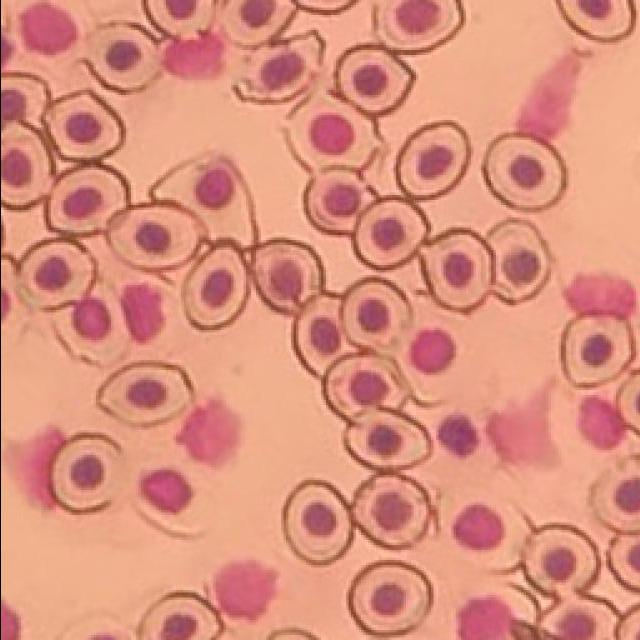RBC: (149, 155, 255, 248), (394, 296, 464, 405), (285, 91, 380, 171), (231, 32, 321, 104), (106, 204, 203, 270), (52, 284, 129, 366), (482, 134, 564, 210), (351, 475, 430, 549), (349, 562, 429, 635), (419, 230, 491, 311), (96, 364, 190, 426), (282, 481, 351, 564), (450, 499, 530, 570), (181, 244, 247, 330), (134, 462, 208, 538), (322, 355, 408, 420), (395, 122, 467, 199), (42, 91, 122, 160), (45, 166, 126, 234), (18, 240, 94, 310), (335, 46, 412, 115), (50, 435, 119, 512), (486, 220, 549, 304), (352, 199, 426, 270), (251, 240, 321, 314), (561, 316, 632, 388), (344, 410, 429, 470), (292, 295, 354, 376), (522, 525, 596, 592), (86, 25, 158, 92), (340, 280, 409, 349), (374, 0, 461, 54), (302, 169, 374, 234), (0, 121, 51, 209), (138, 592, 221, 640), (589, 455, 640, 532), (221, 0, 294, 48), (539, 596, 616, 640), (555, 0, 632, 41), (142, 0, 213, 36), (0, 74, 48, 126), (608, 536, 640, 591), (616, 371, 640, 432), (615, 605, 640, 640)
WBC: (515, 52, 579, 140), (2, 428, 64, 510), (175, 400, 236, 465), (212, 561, 275, 621), (562, 274, 634, 318), (19, 4, 76, 55), (161, 34, 221, 80), (578, 396, 625, 450), (120, 284, 162, 342), (456, 596, 511, 640), (436, 415, 476, 458)
